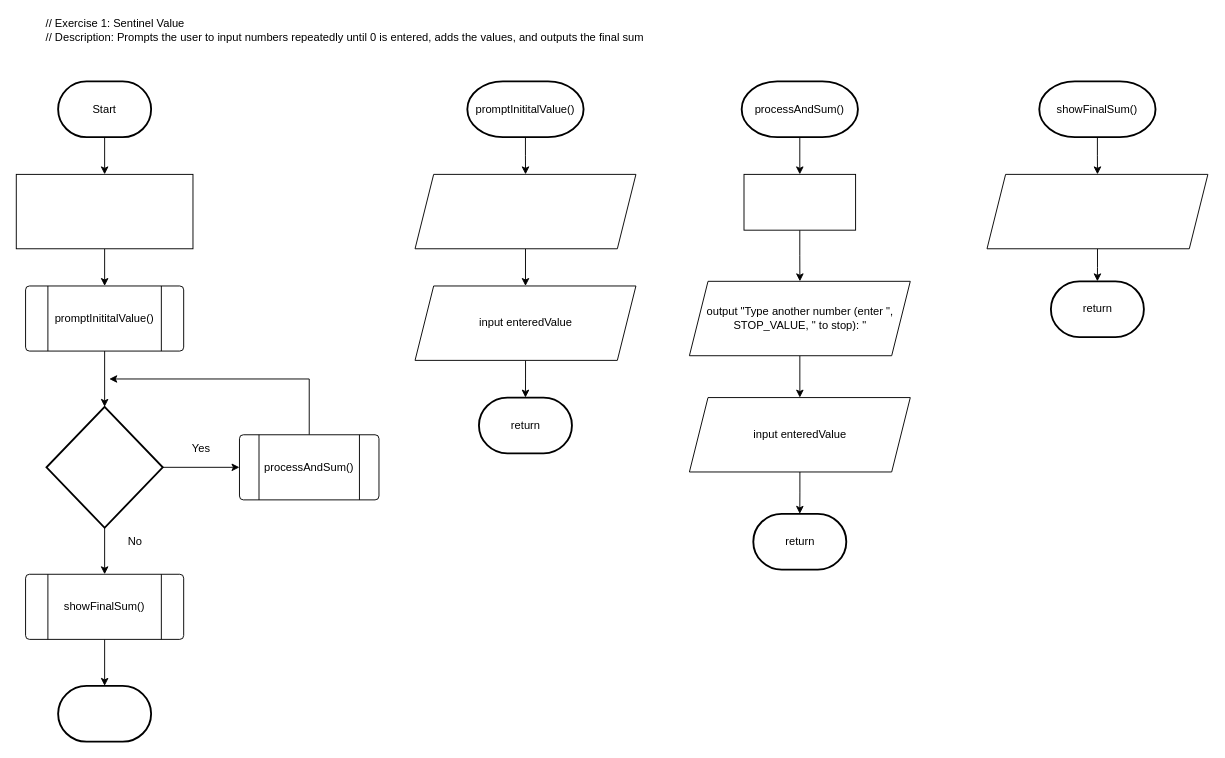
This 1225x758 diagram has some shape labels left out. The centre of each missing label's shape, as x and y in pixels:
Declarations: num STOP_VALUE = 0 num enteredValue num sumTotal = 0: (104,211)
enteredValue<> STOP_VALUE: (104,466)
output "The combined sum of your ", "numbers is: ", sumTotal: (1097,211)
output "Type a number to add (enter ", STOP_VALUE, " to stop): ": (525,211)
Stop: (104,713)
sumTotal = sumTotal + entered Value: (799,201)
